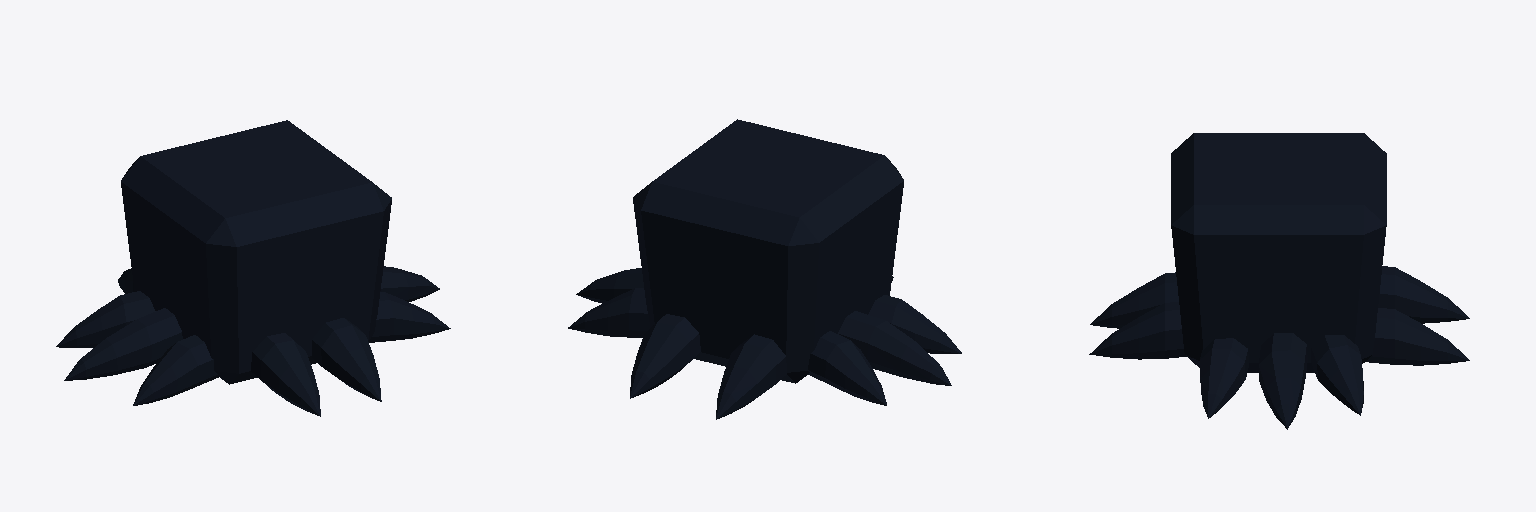
The model's file is glube.obj.
The picture shows the model from 3 angles: view 1: azimuth 30°, elevation 25°; view 2: azimuth 150°, elevation 25°; view 3: azimuth 270°, elevation 25°; orthographic projection.
Visible parts, largest first — view 1: Cube_Cube.006; view 2: Cube_Cube.006; view 3: Cube_Cube.006.
Part boxes in pixels (left/top/right/bottom): Cube_Cube.006: left=56, top=120, right=450, bottom=416; Cube_Cube.006: left=568, top=119, right=961, bottom=419; Cube_Cube.006: left=1089, top=133, right=1469, bottom=429.
Size of the model in its own units: 2.03 by 0.8998 by 1.78.